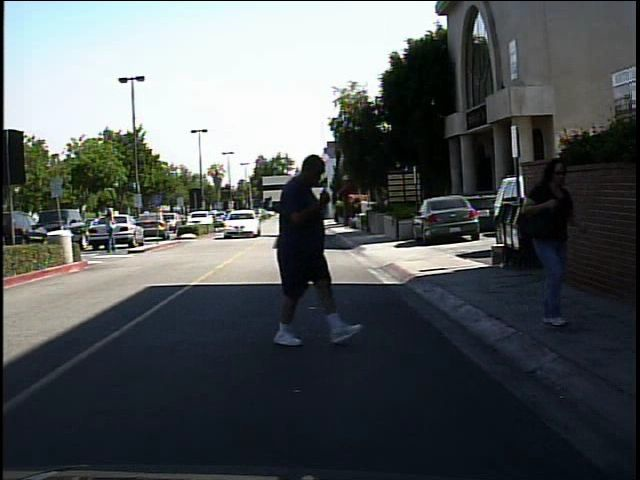person: (259, 147, 365, 347), (508, 150, 586, 332), (99, 203, 122, 256)
